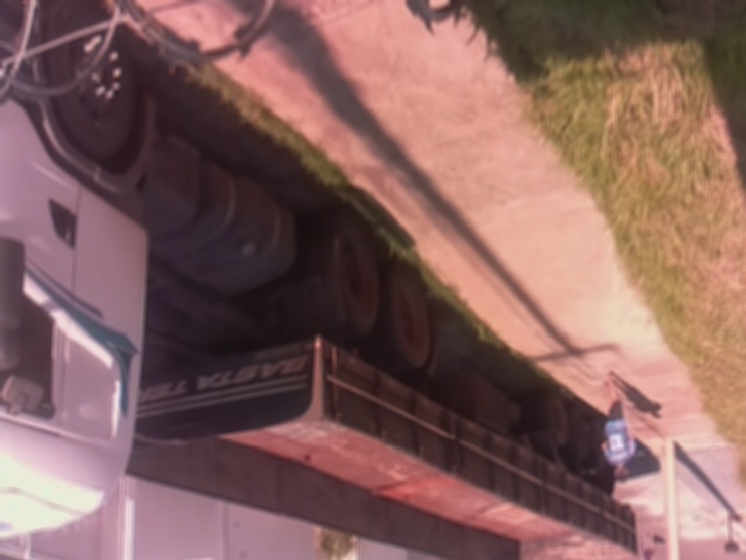person: (590, 370, 639, 486), (639, 527, 658, 560)
